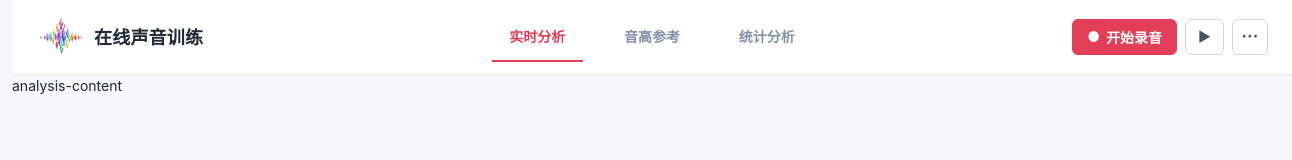
Scenario: AppShell › navigates to practice and flips the nav label
Click the link "音高参考": (652, 36) [624,28,680,44]
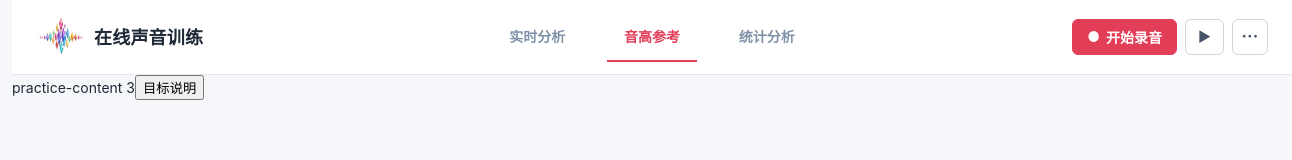
Check: the link "实时分析" is shown, box [509,28,565,44]
Check: the text "practice-content 3 目标说明" is shown, box [12,75,204,100]
